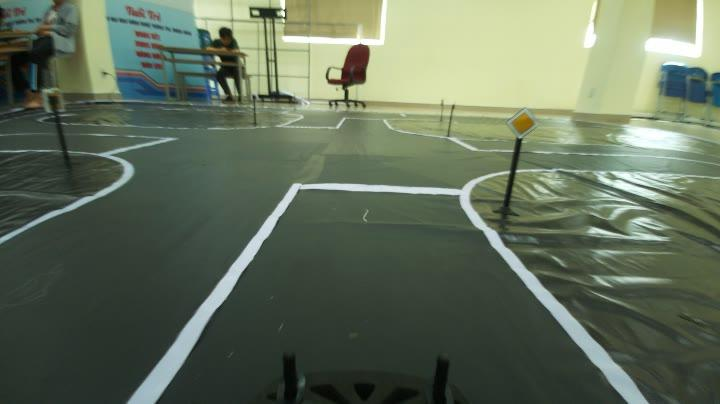priority: (500, 106, 544, 144)
